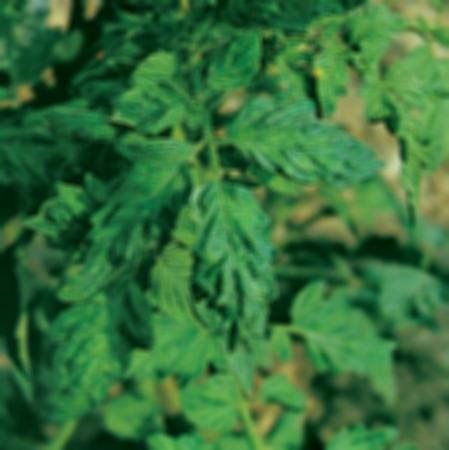Tomato leaf mosaic virus: (180, 184, 279, 390), (80, 135, 200, 291), (39, 273, 152, 420), (228, 98, 377, 194), (102, 90, 205, 133), (198, 35, 260, 99)
